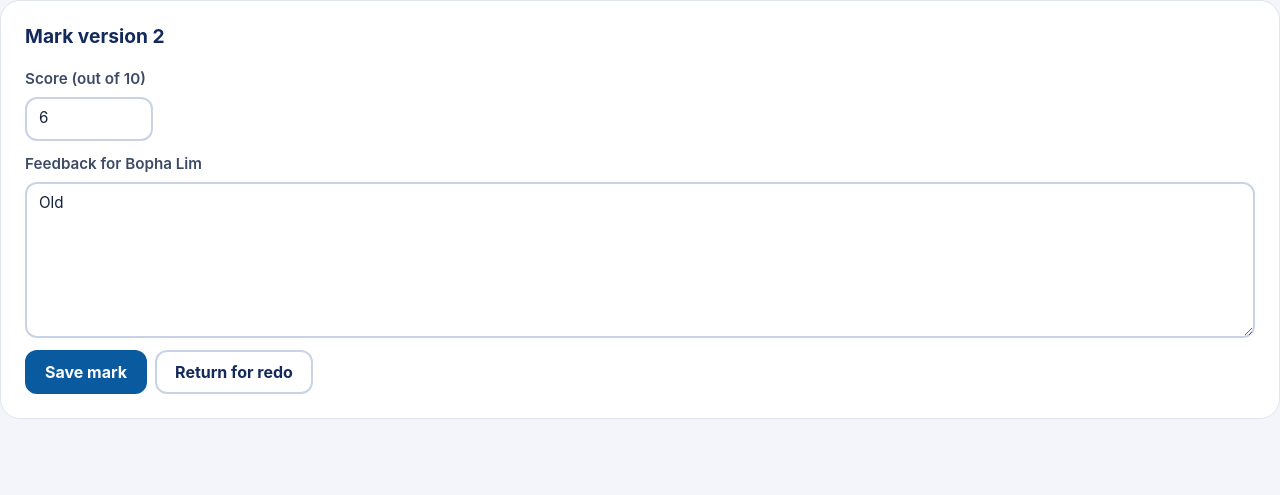
it: GradeForm › “Return for redo” sends the feedback as the note
The width and height of the screenshot is (1280, 495).
Expected: the field labelled "Score (out of 10)" holds "6", [25,97,153,141]
Replace the text in the text box labelled "Feedback for Bopha Lim" with "Count down to 0." at (640, 260), box [25,182,1255,338]
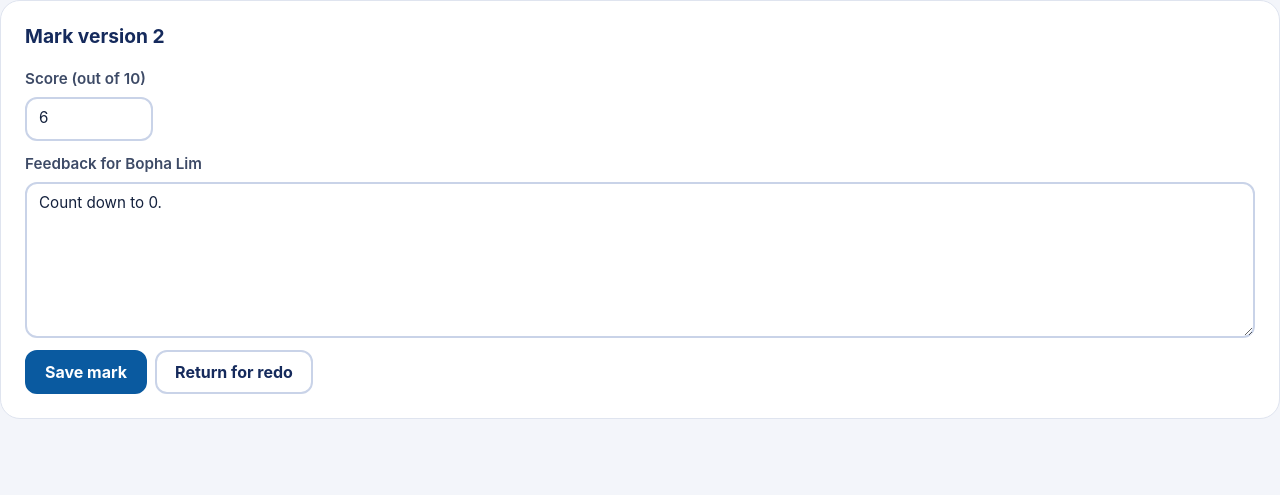
Click the button "Return for redo" at (234, 372), box [155,350,313,394]
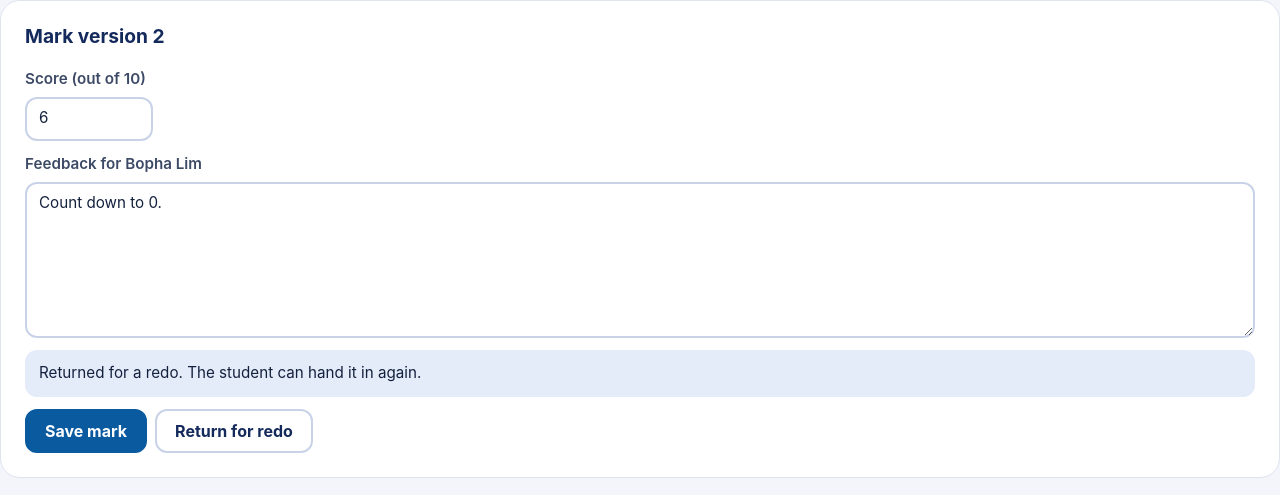
Now the message shows "Returned for a redo", box [39,363,421,382]
